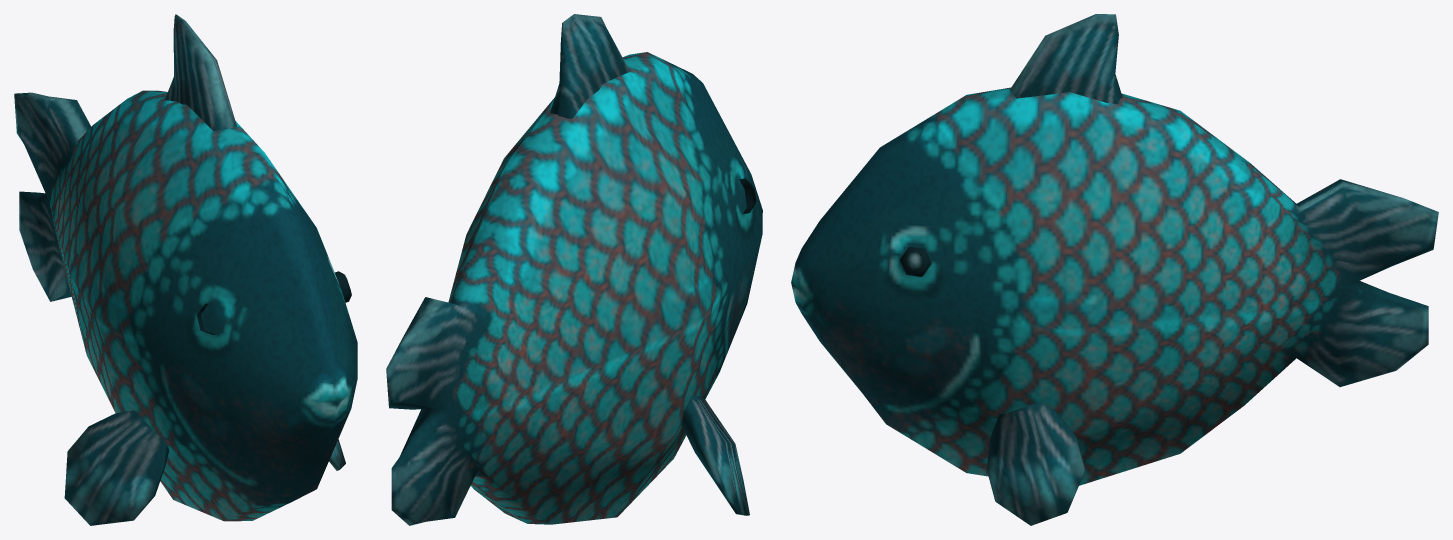
Rendered from fischkuscheltier.fbx.
The picture shows the model from 3 angles, left to right: view 1: azimuth 30°, elevation 25°; view 2: azimuth 150°, elevation 25°; view 3: azimuth 270°, elevation 25°; orthographic projection. The views are drawn at different scales.
Visible parts, largest first — view 1: fisch_kuscheltier; view 2: fisch_kuscheltier; view 3: fisch_kuscheltier.
Boxes of the visible parts, x1,y1,x2,y2 form: fisch_kuscheltier: [14, 14, 357, 525]; fisch_kuscheltier: [386, 14, 762, 525]; fisch_kuscheltier: [791, 14, 1438, 525].
Size of the model in its own units: 38.92 by 63.95 by 80.38.
